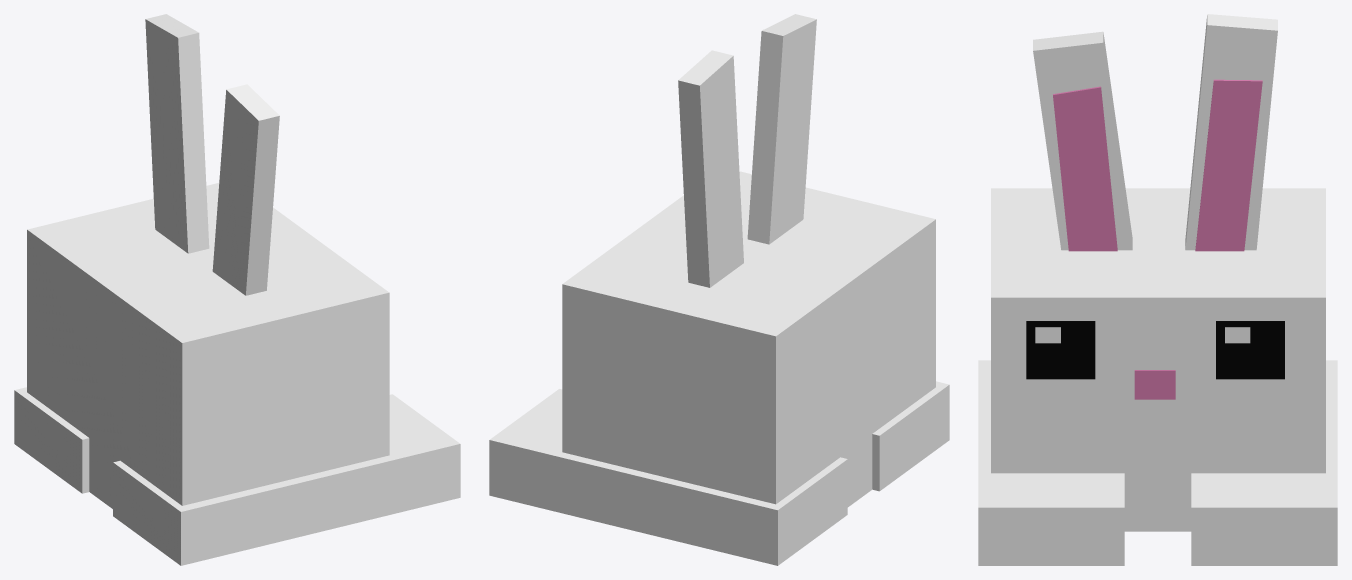
File: bunny.glb
The picture shows the model from 3 angles, left to right: view 1: azimuth 30°, elevation 25°; view 2: azimuth 150°, elevation 25°; view 3: azimuth 270°, elevation 25°; orthographic projection. The views are drawn at different scales.
Parts seen in each view (by area): view 1: body, leg_right, ear_left, ear_right, leg_left; view 2: body, leg_left, ear_left, ear_right, leg_right; view 3: body, leg_right, leg_left, ear_left, ear_inside_left, ear_right, ear_inside_right, Cube.001, Cube.002, Cube.004.
Boxes of the visible parts, x1=… form: body: x1=27, y1=183, x2=389, y2=508; leg_right: x1=113, y1=394, x2=460, y2=565; ear_left: x1=145, y1=14, x2=209, y2=253; ear_right: x1=212, y1=84, x2=279, y2=295; leg_left: x1=14, y1=387, x2=89, y2=493; body: x1=562, y1=171, x2=935, y2=507; leg_left: x1=489, y1=389, x2=847, y2=565; ear_left: x1=678, y1=50, x2=743, y2=287; ear_right: x1=747, y1=14, x2=816, y2=244; leg_right: x1=872, y1=381, x2=949, y2=491; body: x1=991, y1=188, x2=1325, y2=531; leg_right: x1=978, y1=360, x2=1124, y2=565; leg_left: x1=1191, y1=360, x2=1337, y2=565; ear_left: x1=1185, y1=14, x2=1277, y2=250; ear_inside_left: x1=1195, y1=79, x2=1262, y2=251; ear_right: x1=1033, y1=31, x2=1132, y2=250; ear_inside_right: x1=1053, y1=86, x2=1117, y2=251; Cube.001: x1=1026, y1=321, x2=1095, y2=379; Cube.002: x1=1216, y1=321, x2=1284, y2=379; Cube.004: x1=1134, y1=370, x2=1175, y2=399.
Size of the model in its own units: 2.7 by 3.92 by 2.78.
